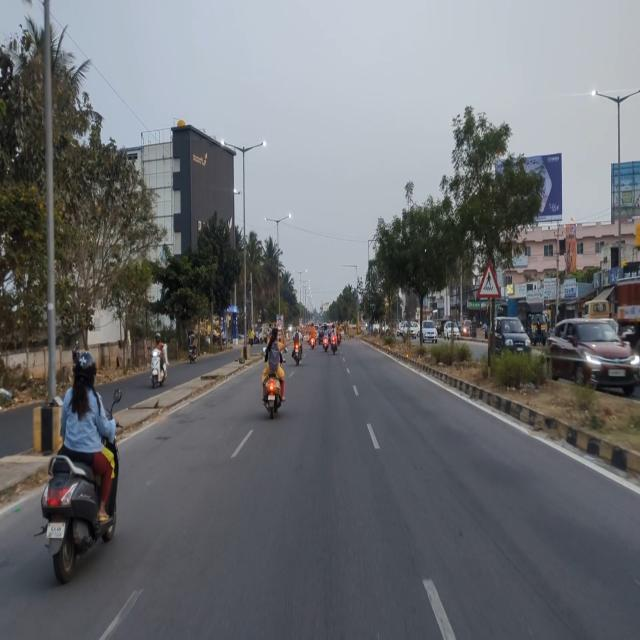bien_cam: (476, 256, 501, 306)
